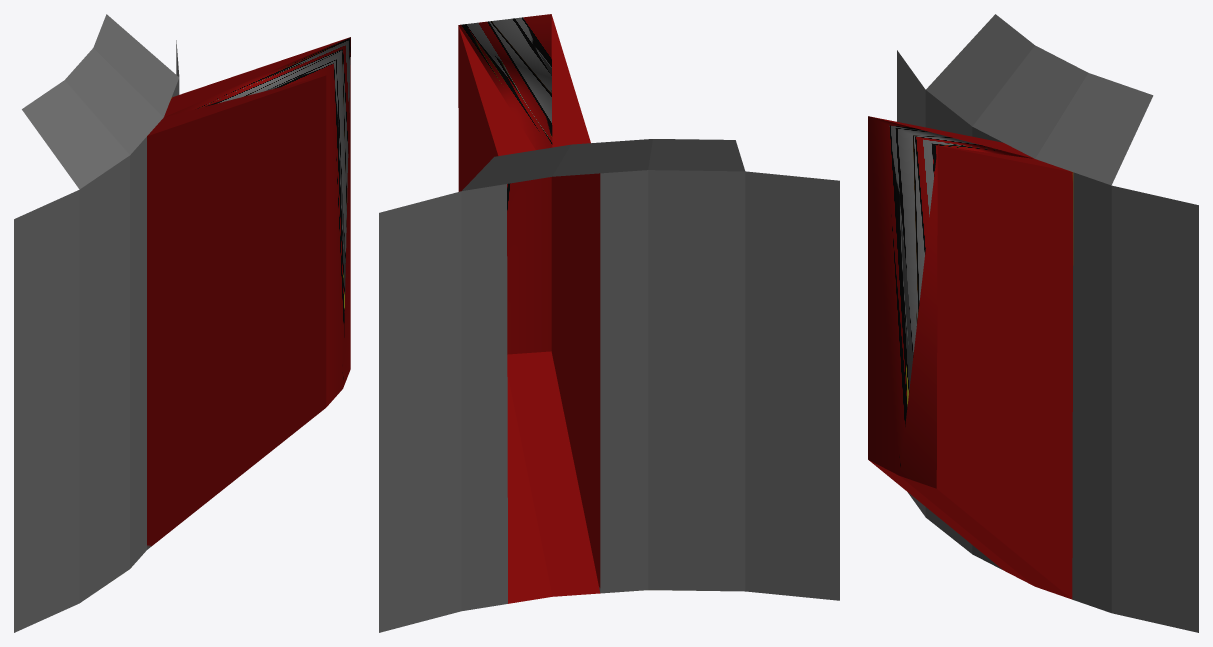
File: enemyMiniRobotBreak03.obj
3 views of the same model, side by side, from view 1: azimuth 30°, elevation 25°; view 2: azimuth 150°, elevation 25°; view 3: azimuth 270°, elevation 25° (orthographic). The views are drawn at different scales.
Visible parts, largest first — view 1: 球; view 2: 球; view 3: 球.
Part boxes in pixels (<box>): 球: <box>14,14,350,632</box>; 球: <box>379,14,839,632</box>; 球: <box>868,14,1198,632</box>.
Bounding box in the file's own units: 0.831 × 1.1 × 0.646.
Materials: 1 (1 with a texture image).
